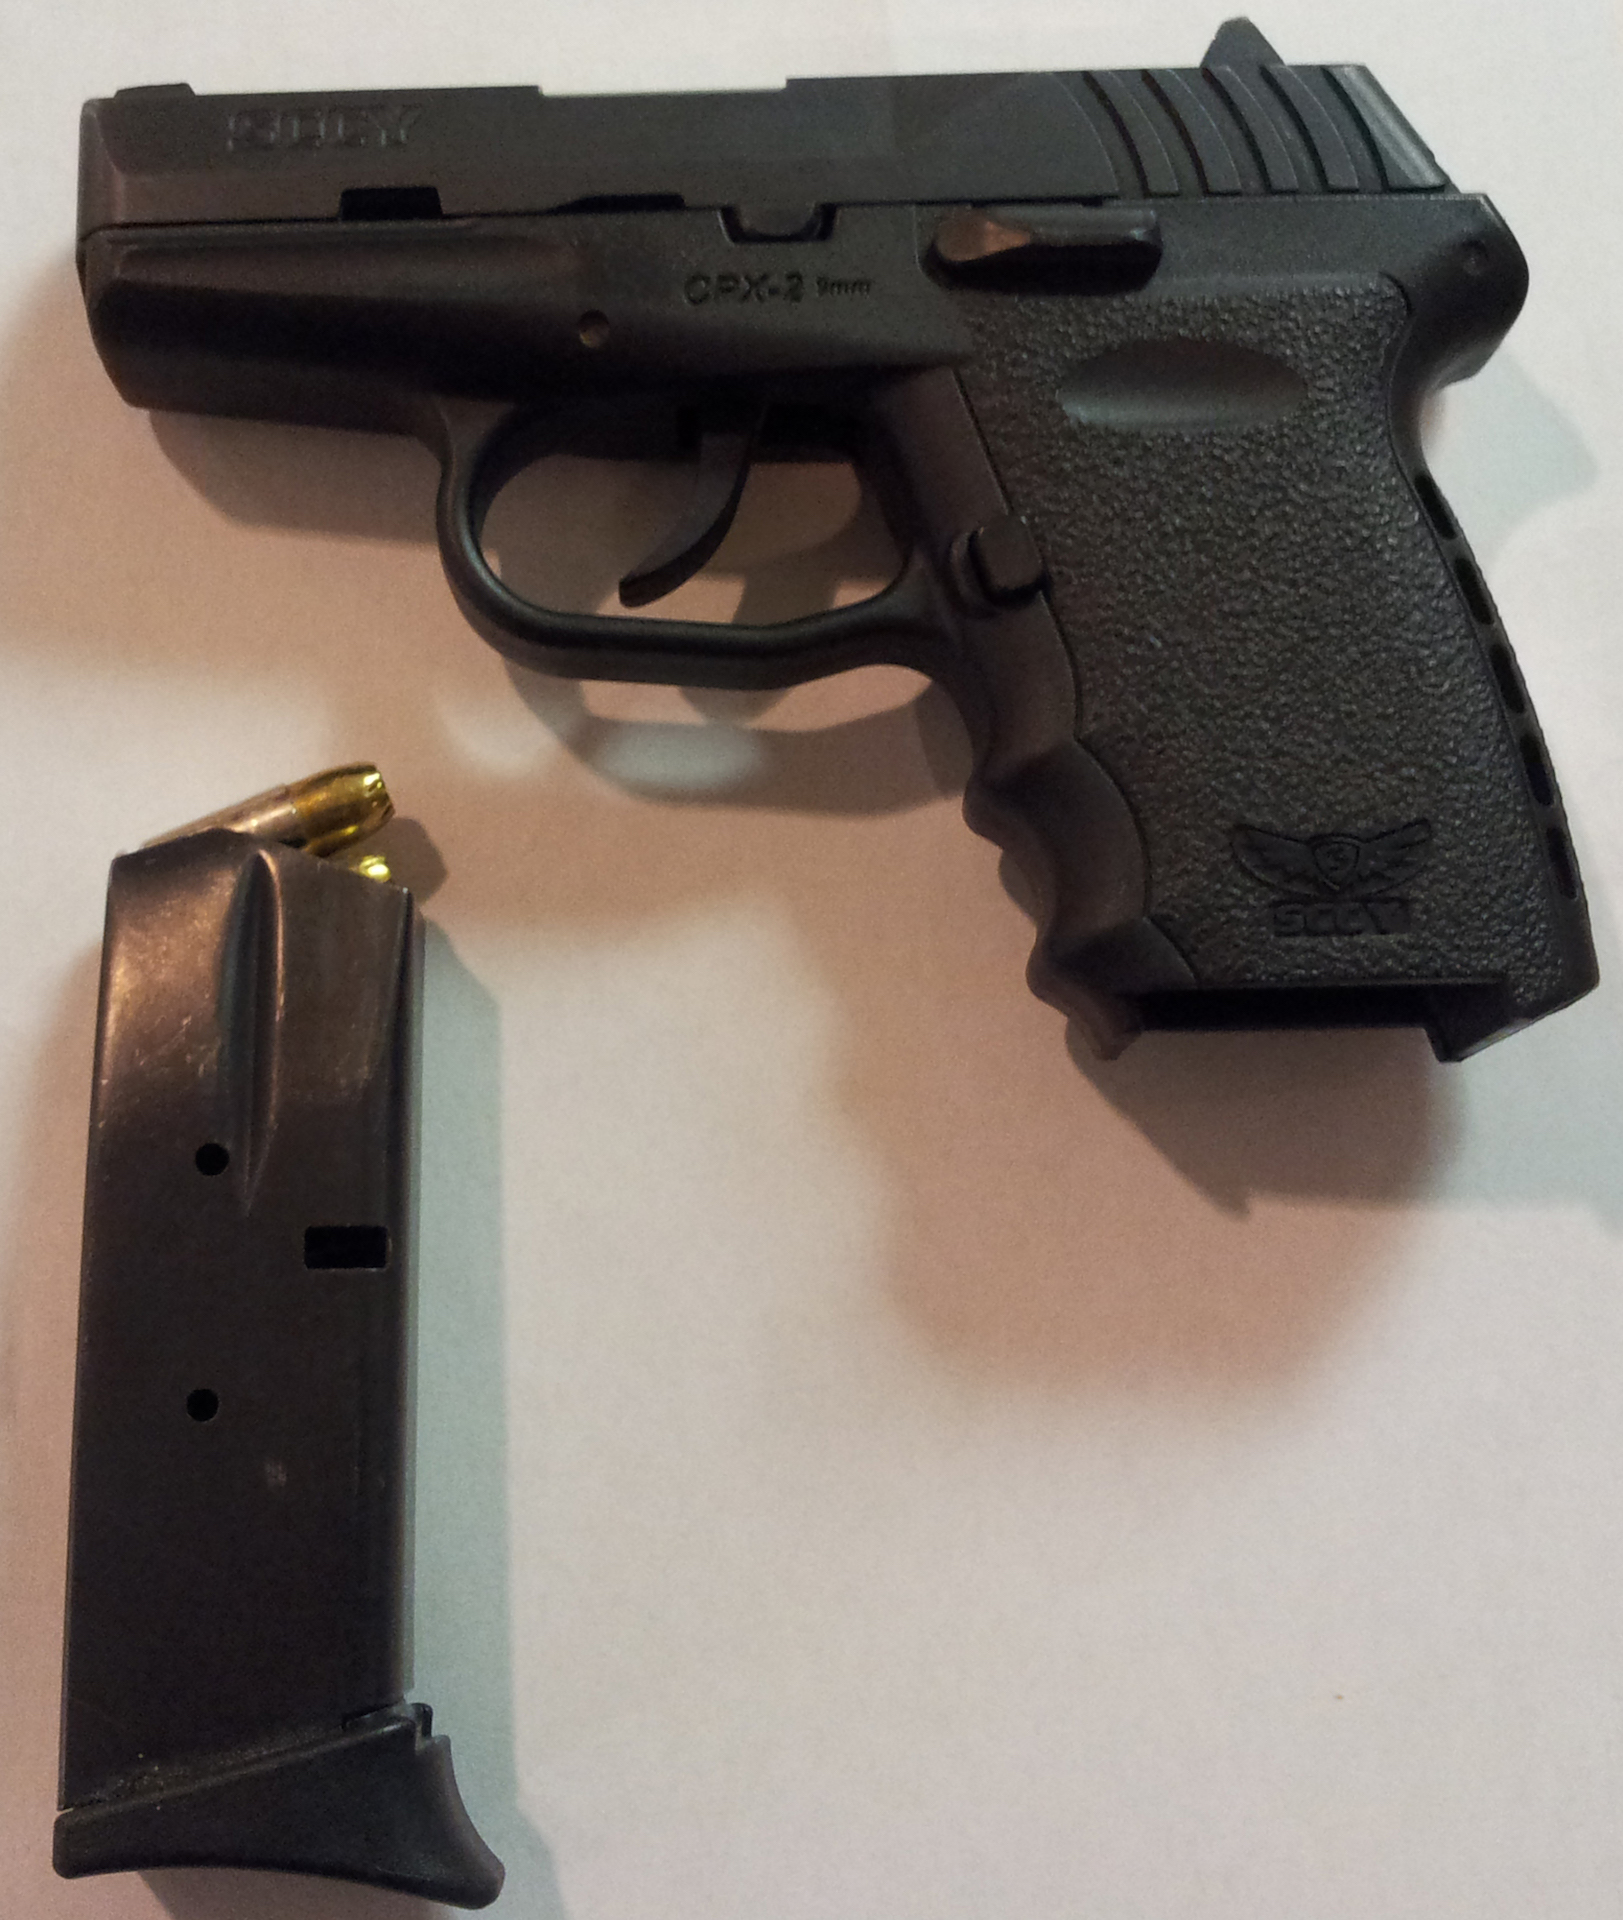pistol: (81, 19, 1604, 1077)
